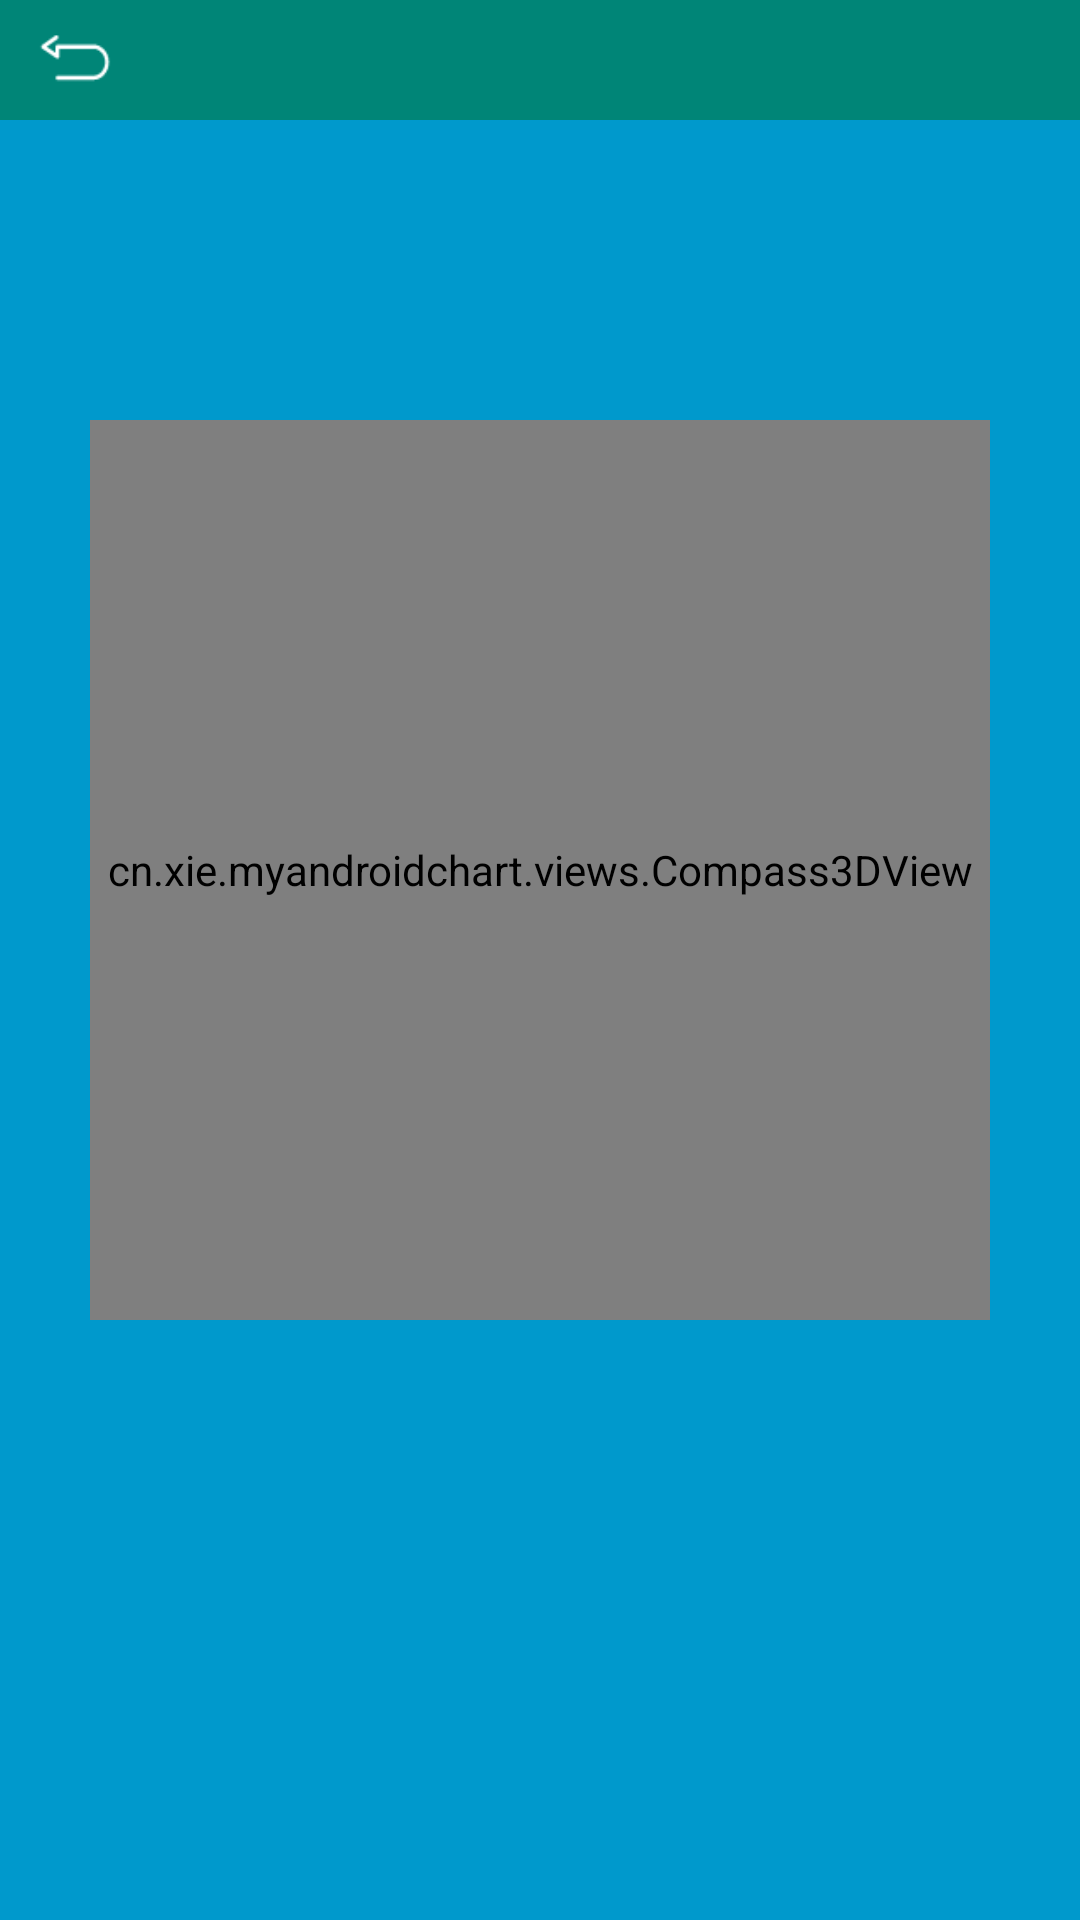

Point at icon controls on the screen. Image size 1080*1920, points as [x,y].
back: [75,58]
